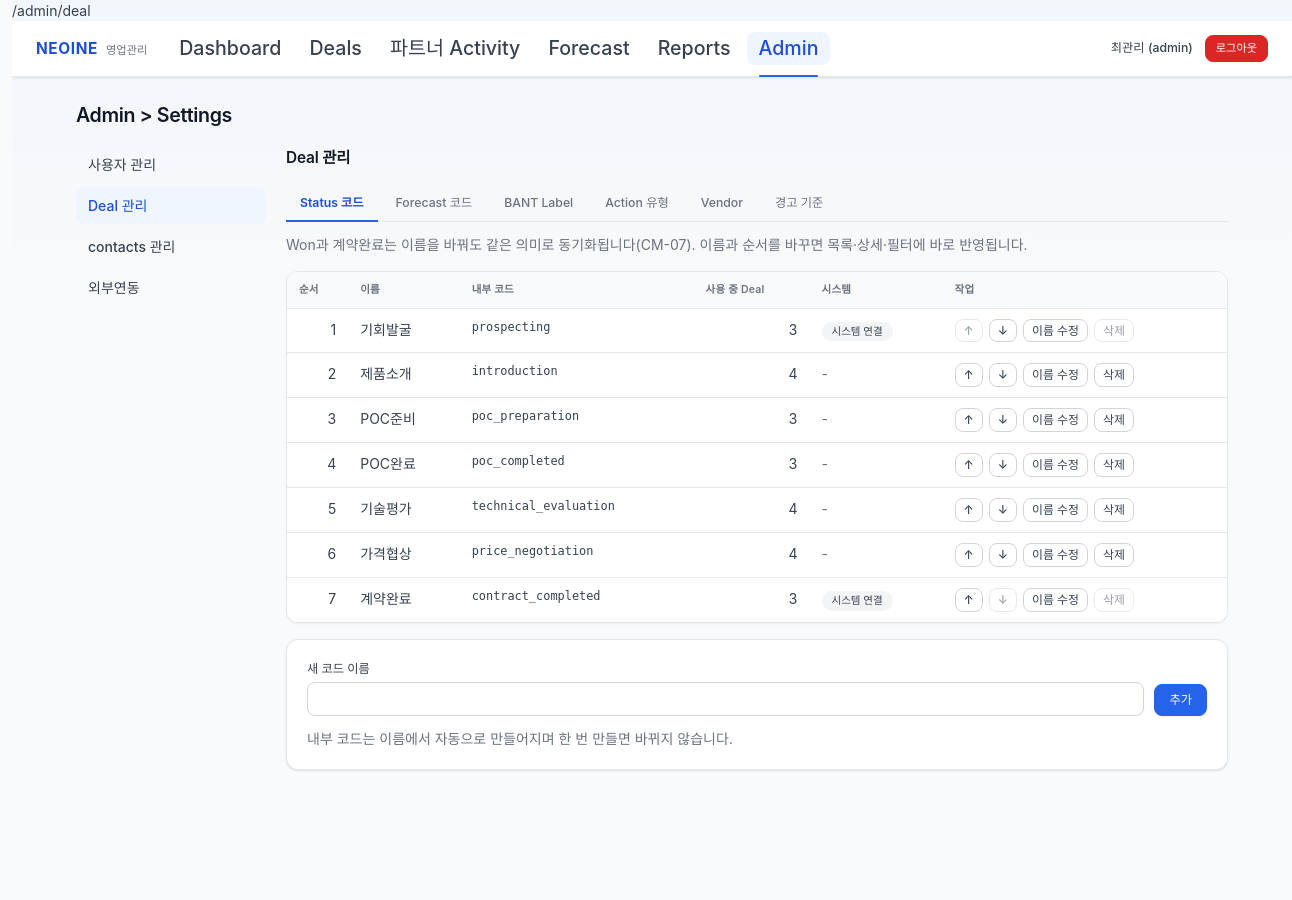
BANT Label 추가·수정 (T-LABEL-02~03) › adds a label and clears the input
Step 1. Click the tab "BANT Label" → click(539, 204), box [490,186,587,222]
(page scrolled)
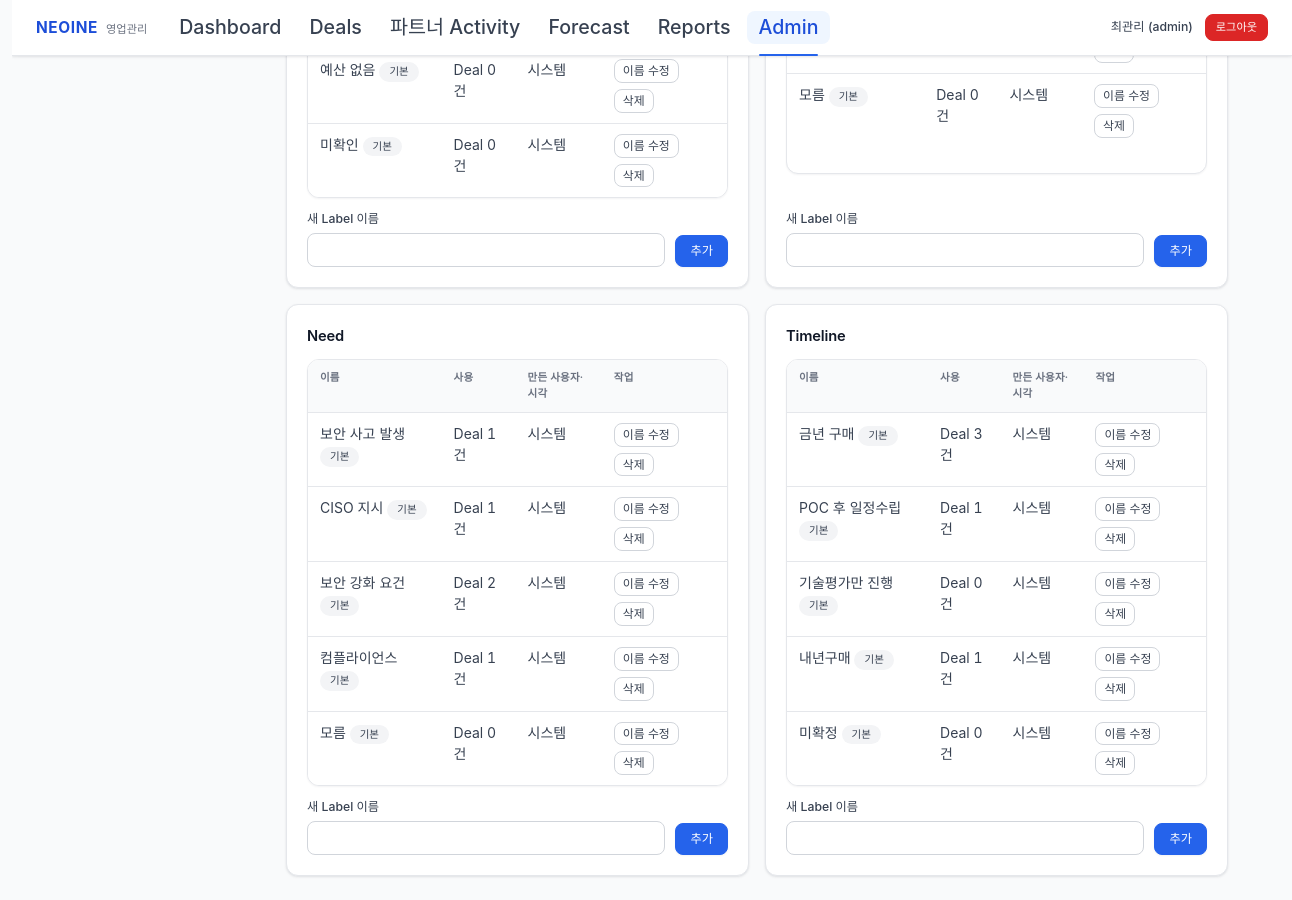
Step 2. Type "규제 대응" into the field labelled "새 Label 이름" below "컴플라이언스" → (486, 838), box [307,821,666,855]
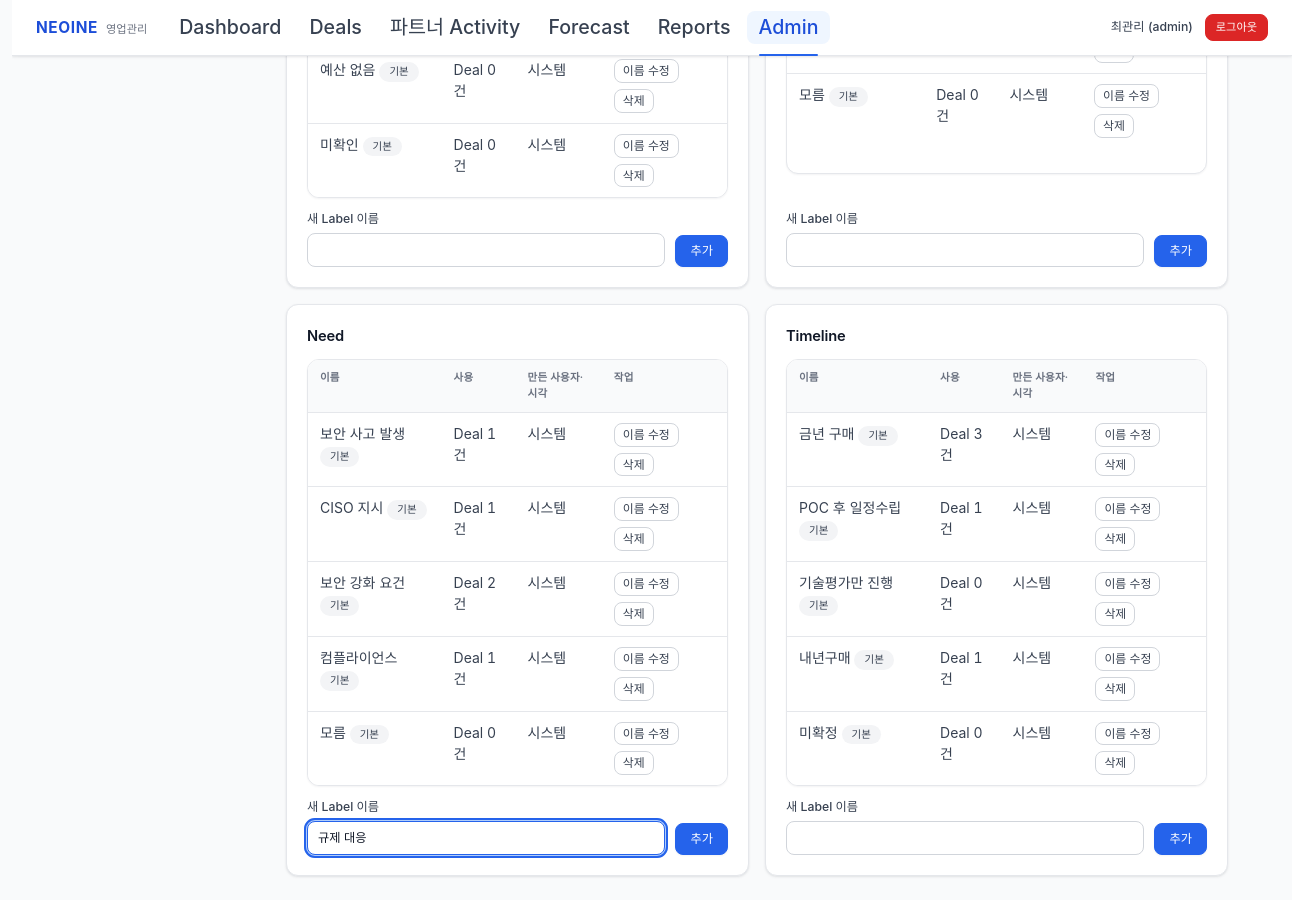
Step 3. Click the 3rd button "추가" → click(702, 839), box [676,823,728,855]
(page scrolled)
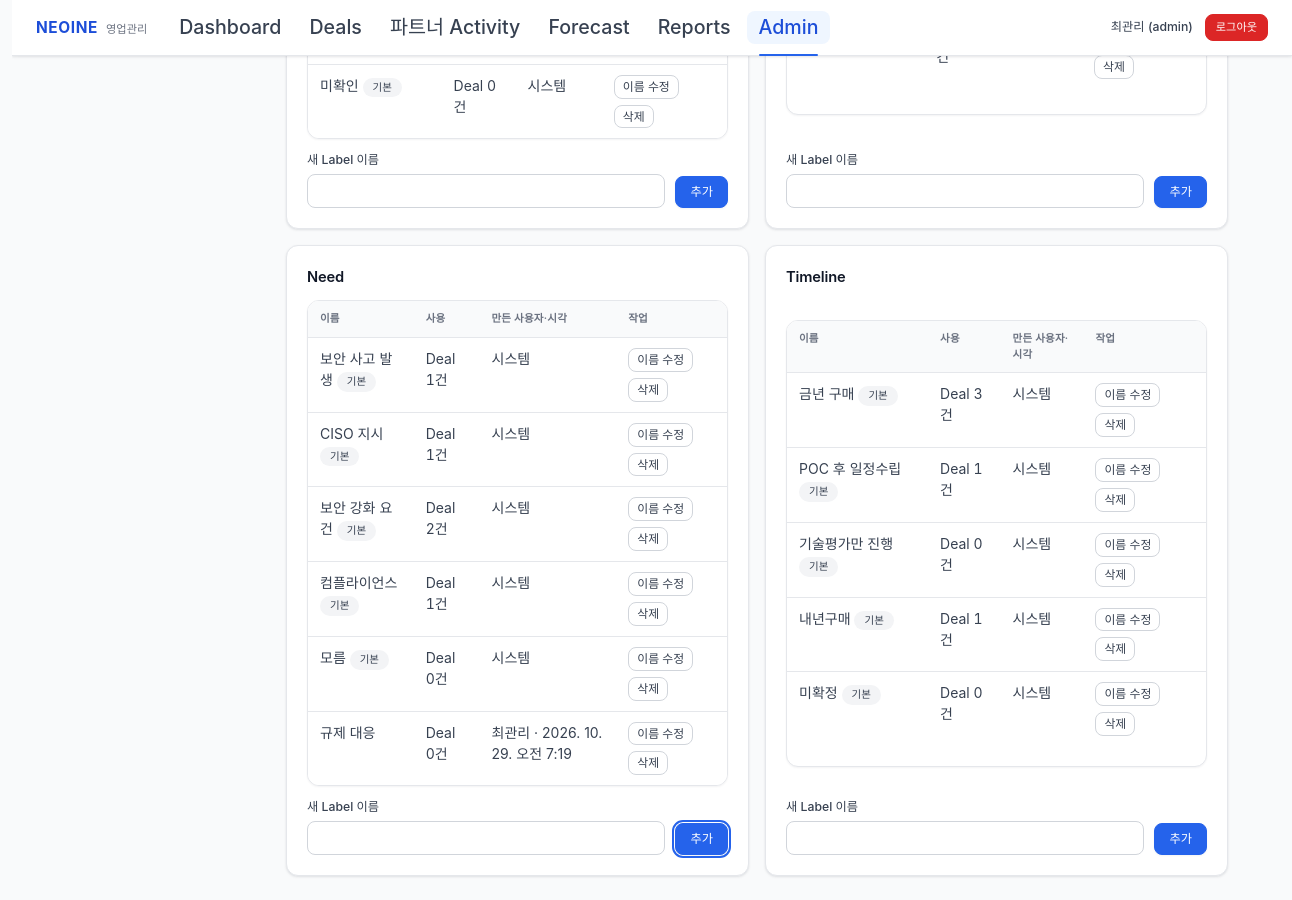
Now the text "규제 대응" is shown, box [308,712,414,785]
Now the field labelled "새 Label 이름" below "규제 대응" is empty, box [307,821,666,855]
